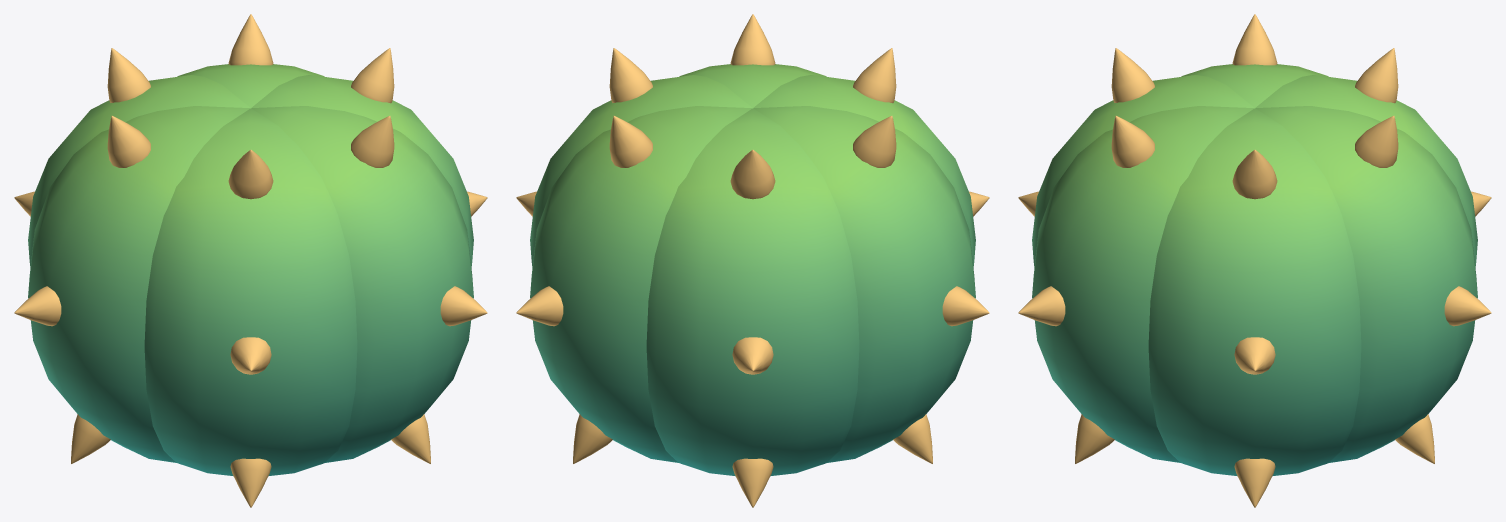
The model's file is cacti.fbx.
3 views of the same model, side by side, from view 1: azimuth 30°, elevation 25°; view 2: azimuth 150°, elevation 25°; view 3: azimuth 270°, elevation 25° (orthographic).
Visible parts, largest first — view 1: Cube.016; view 2: Cube.016; view 3: Cube.016.
Boxes of the visible parts, bbox=[...] form: Cube.016: bbox=[14, 14, 487, 507]; Cube.016: bbox=[516, 14, 989, 507]; Cube.016: bbox=[1018, 14, 1491, 507].
Bounding box in the file's own units: 1177 × 845 × 1020.
1 material, 1 textured.
